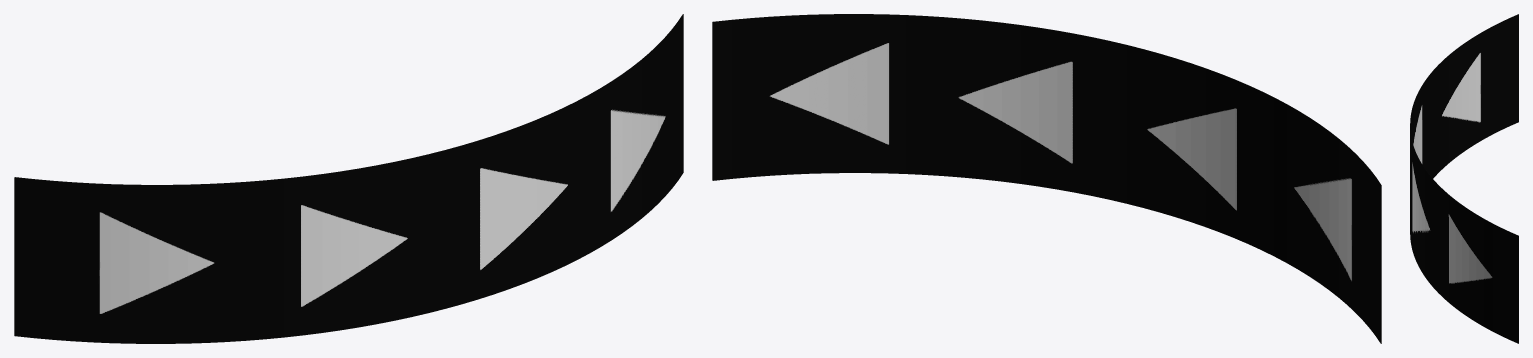
The model's file is Turn_L.fbx.
The picture shows the model from 3 angles, left to right: view 1: azimuth 30°, elevation 25°; view 2: azimuth 150°, elevation 25°; view 3: azimuth 270°, elevation 25°; orthographic projection. The views are drawn at different scales.
Parts seen in each view (by area): view 1: Plane.002; view 2: Plane.002; view 3: Plane.002.
Boxes of the visible parts, bbox=[...] form: Plane.002: bbox=[14, 14, 683, 343]; Plane.002: bbox=[712, 14, 1381, 343]; Plane.002: bbox=[1410, 14, 1518, 343].
Size of the model in its own units: 882 by 200 by 183.
